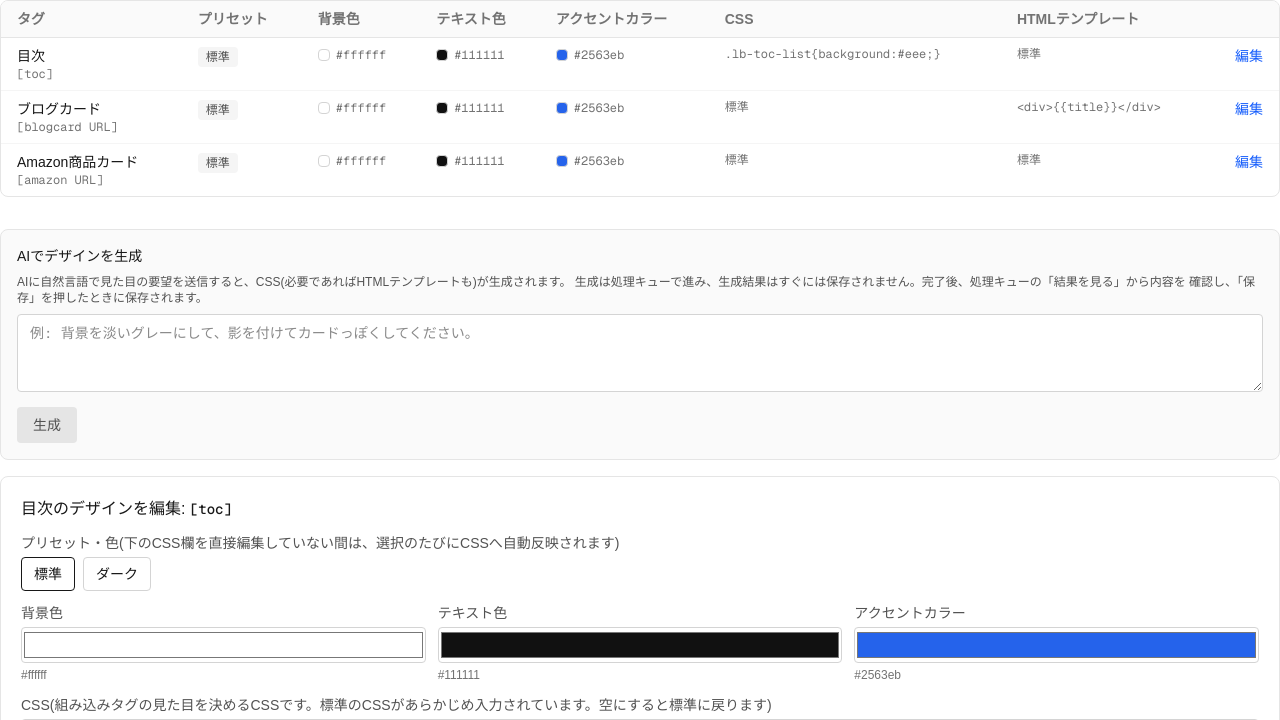
AIでデザインを生成するフォーム › ジョブが満杯で failed として返ったら、待ち行列が満杯である旨を表示する(issue #1409)
This screenshot has width=1280, height=720.
In the text box with placeholder "例: 背景を淡いグレーにして、影を付けてカードっぽくしてください。": (640,353) [17, 314, 1263, 392], type "p"
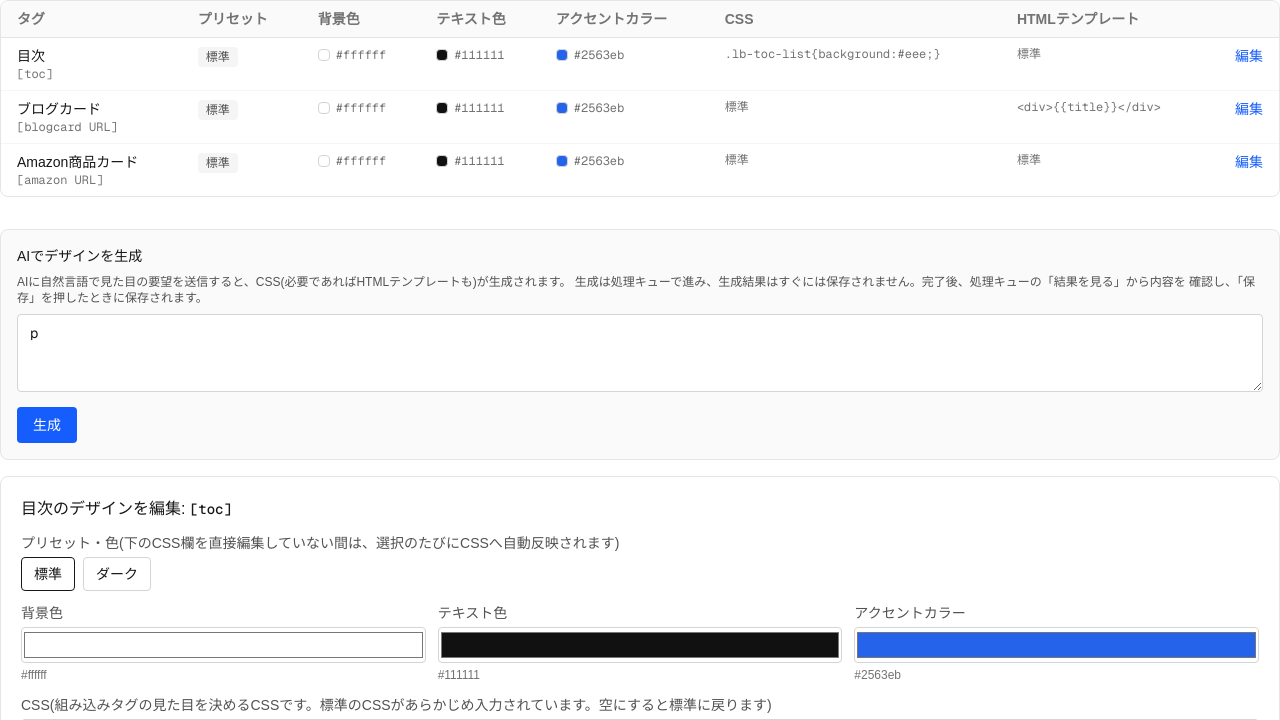
Click the button "生成": (47,425) [17, 407, 77, 443]
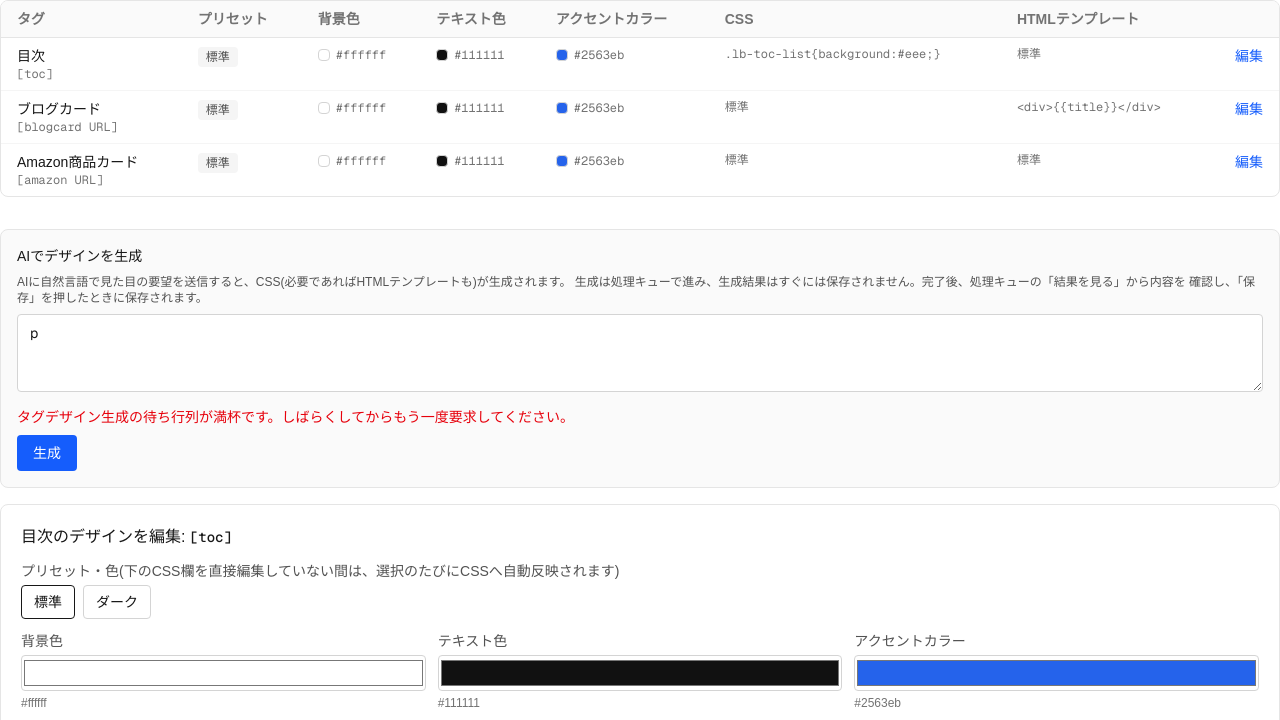
Expected: the text "タグデザイン生成の待ち行列が満杯です。しばらくしてからもう一度要求してください。" is shown, [17, 409, 574, 425]
